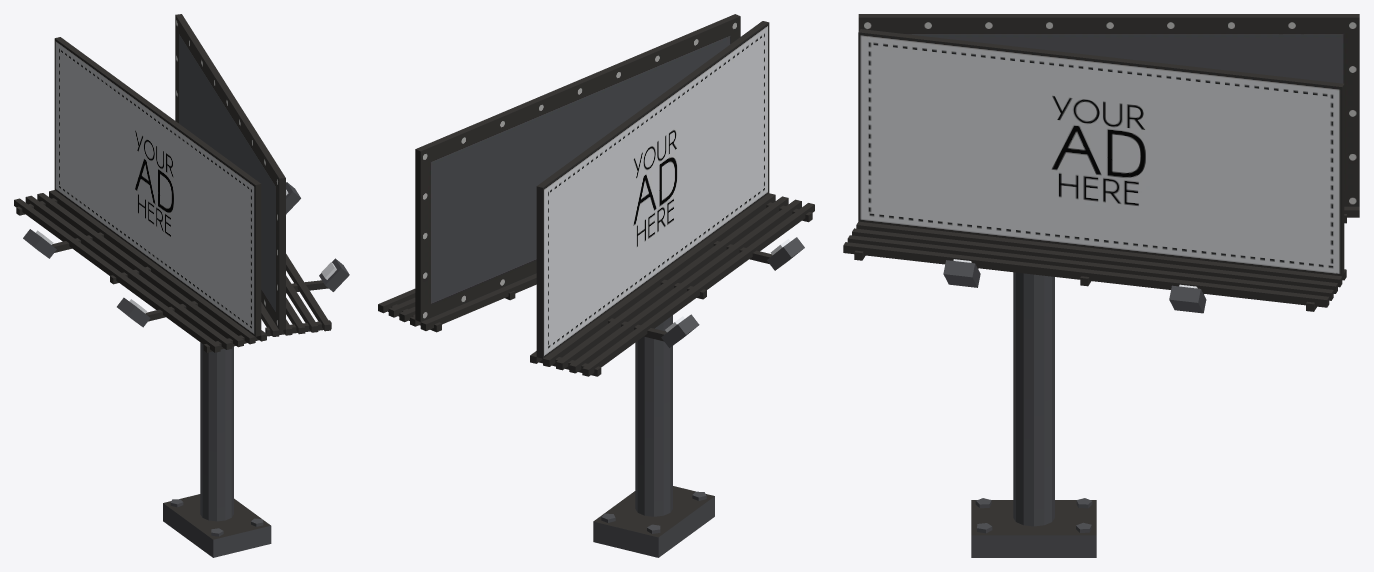
Rendered from billboard_free_model.glb.
3 renders of one model, left to right at view 1: azimuth 30°, elevation 25°; view 2: azimuth 150°, elevation 25°; view 3: azimuth 270°, elevation 25°, orthographic. The views are drawn at different scales.
Visible parts, largest first — view 1: Billboard_2; view 2: Billboard_2; view 3: Billboard_2.
Part boxes in pixels (bbox=[...]): Billboard_2: bbox=[14, 14, 349, 557]; Billboard_2: bbox=[378, 14, 814, 557]; Billboard_2: bbox=[843, 14, 1359, 557].
Bounding box in the file's own units: 440 × 670 × 618.
1 material, 1 textured.
